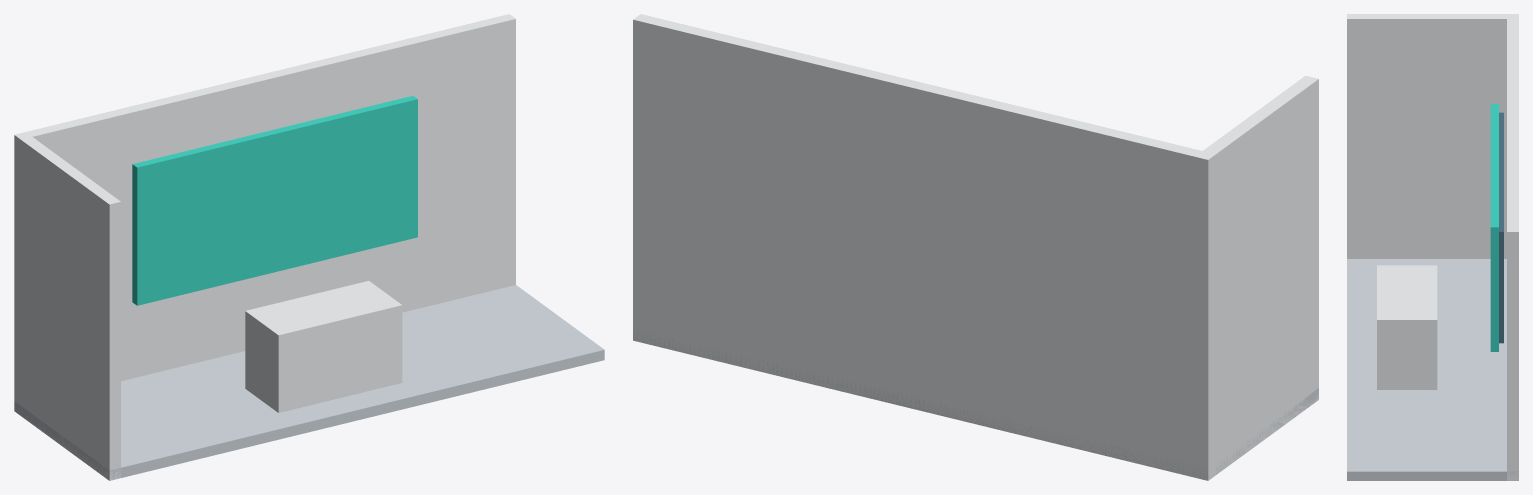
The picture shows the model from 3 angles, left to right: view 1: azimuth 30°, elevation 25°; view 2: azimuth 150°, elevation 25°; view 3: azimuth 270°, elevation 25°; orthographic projection. The views are drawn at different scales.
Parts seen in each view (by area): view 1: Exhibition Booth Concept; view 2: Exhibition Booth Concept; view 3: Exhibition Booth Concept.
Boxes of the visible parts, box(x1,y1,x2,y2) form: Exhibition Booth Concept: box(14, 14, 604, 480); Exhibition Booth Concept: box(633, 14, 1318, 480); Exhibition Booth Concept: box(1347, 14, 1518, 480).
Bounding box in the file's own units: 6 × 3.2 × 2.
